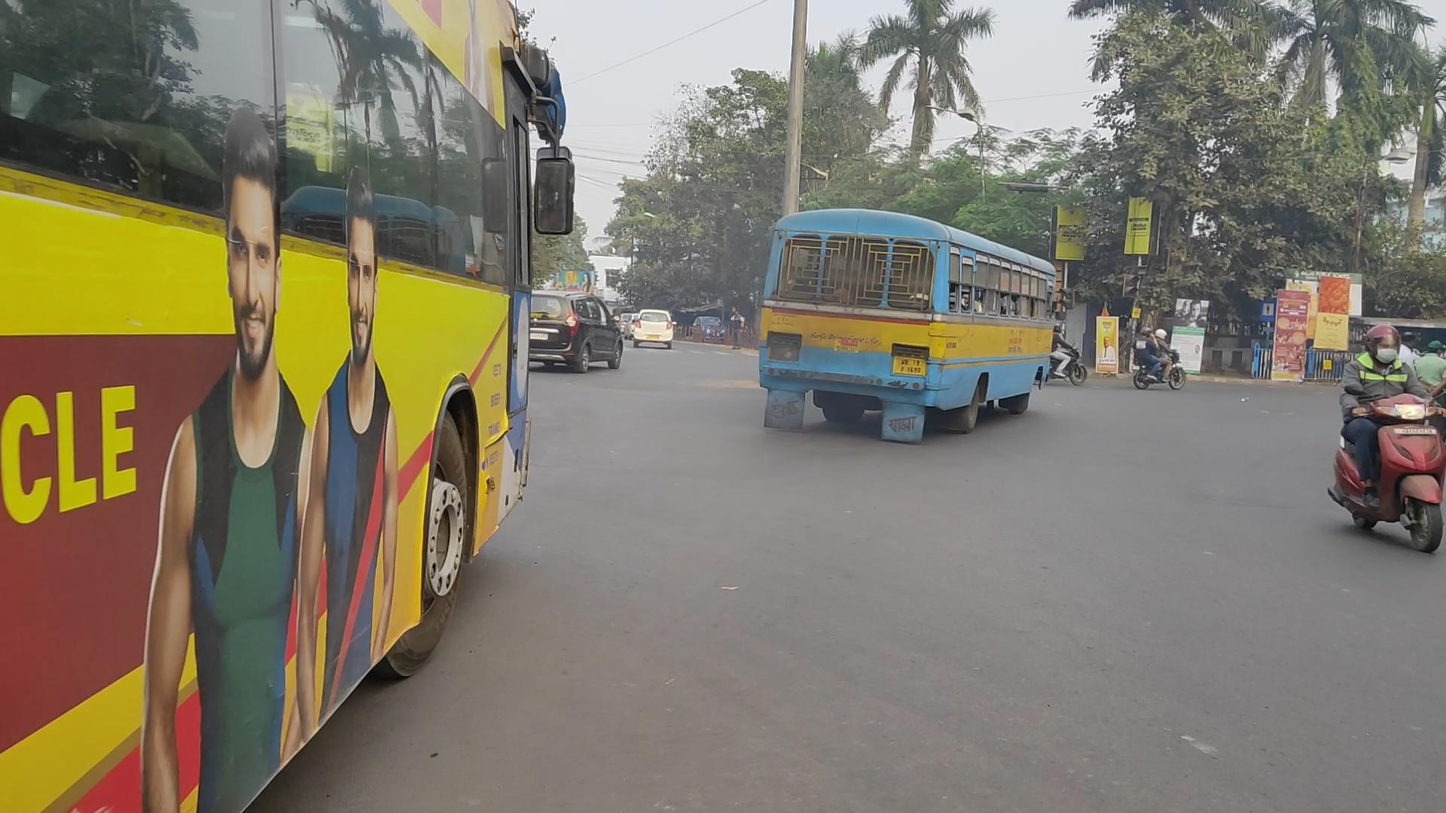Bus: (3, 2, 573, 813), (758, 209, 1056, 444)
bike: (1327, 324, 1446, 553), (1133, 327, 1187, 391), (1051, 322, 1088, 386)
car: (529, 289, 624, 373), (633, 309, 676, 350), (692, 316, 725, 342)
